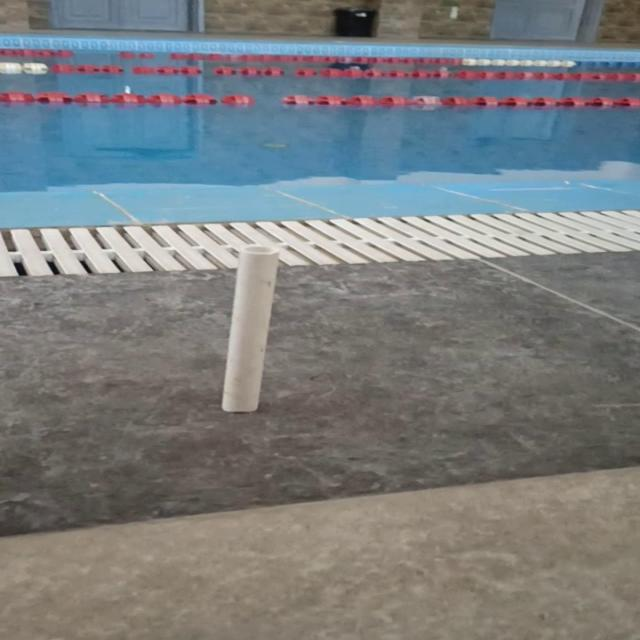Cube: (219, 244, 280, 413)
